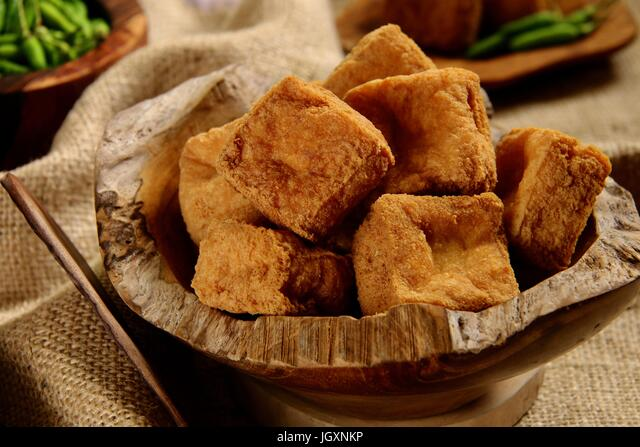Tahu: (493, 112, 622, 254), (256, 82, 374, 209), (389, 188, 514, 302), (364, 67, 486, 179), (205, 228, 319, 315)
